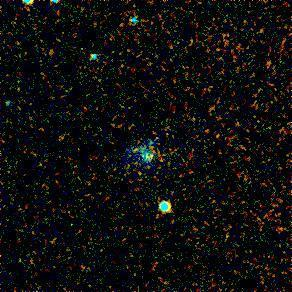star: (126, 159, 156, 189)
